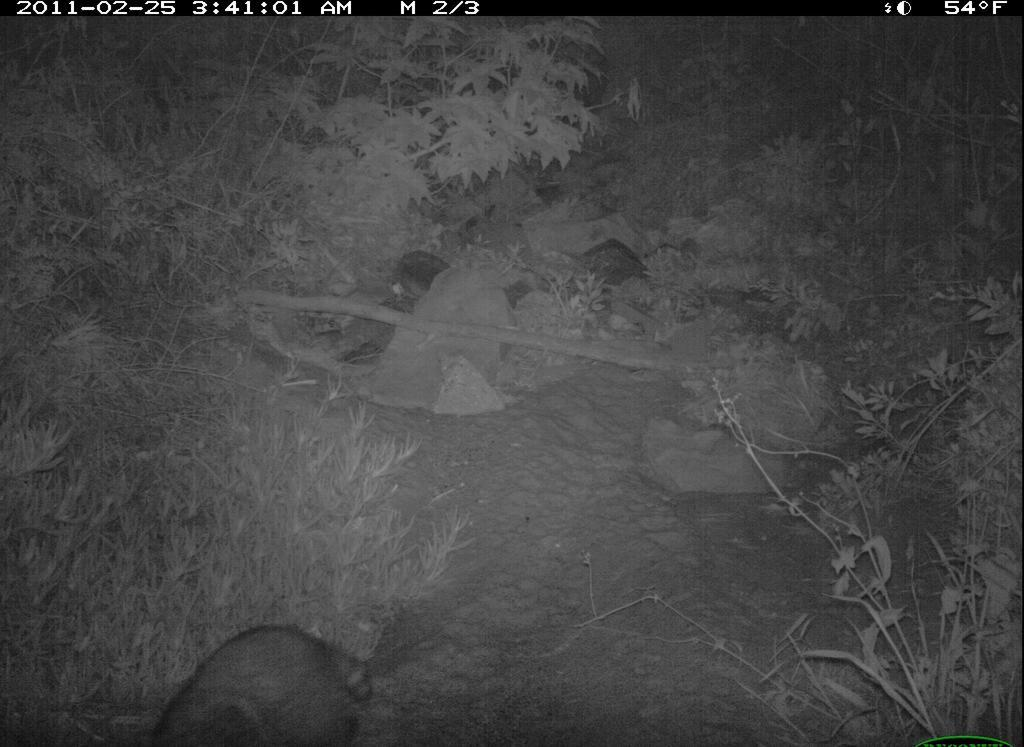raccoon: (148, 616, 381, 747)
